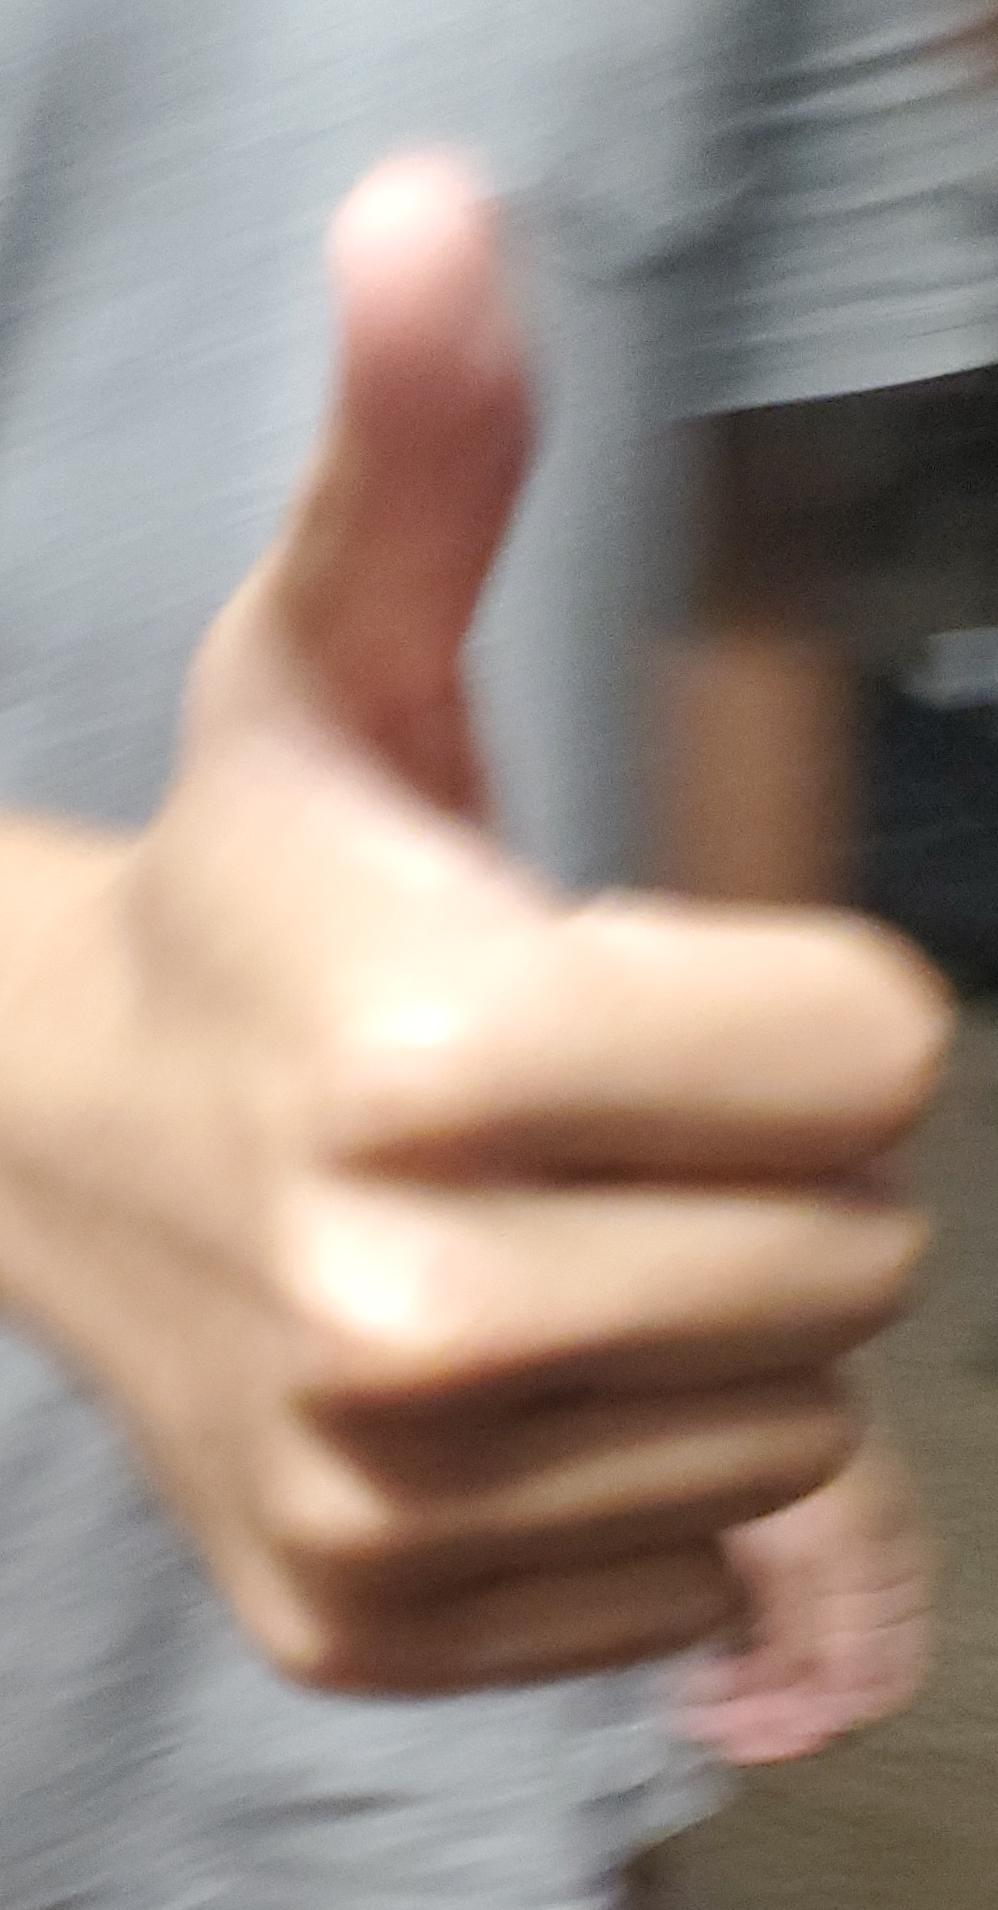up: (0, 1, 998, 1910)
